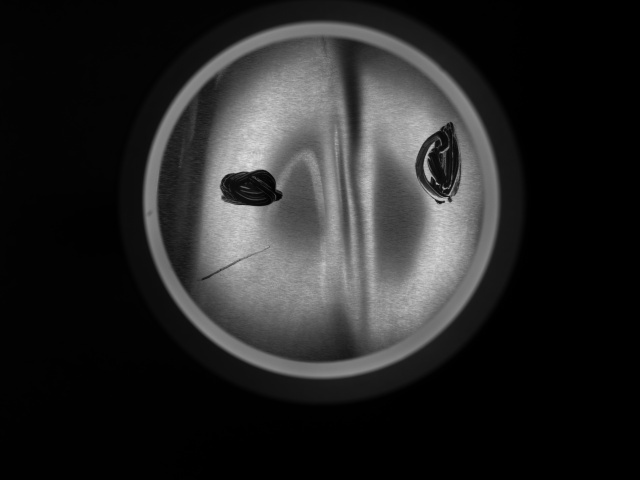ca_shang: (189, 244, 276, 285)
zang_wu: (411, 120, 465, 205), (216, 167, 286, 209)
zhe_zhou: (215, 55, 430, 343)
